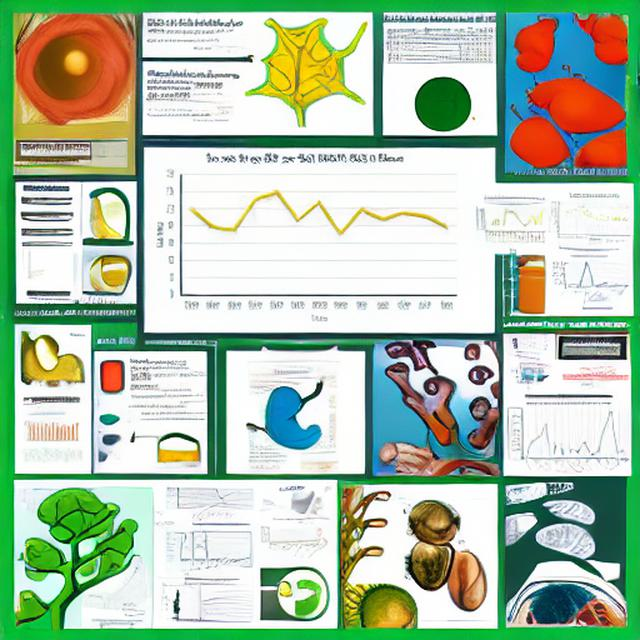Graph: (150, 150, 462, 329), (505, 400, 629, 473), (547, 252, 632, 303), (548, 194, 634, 244), (475, 200, 546, 250), (258, 515, 331, 562), (22, 412, 79, 446)
